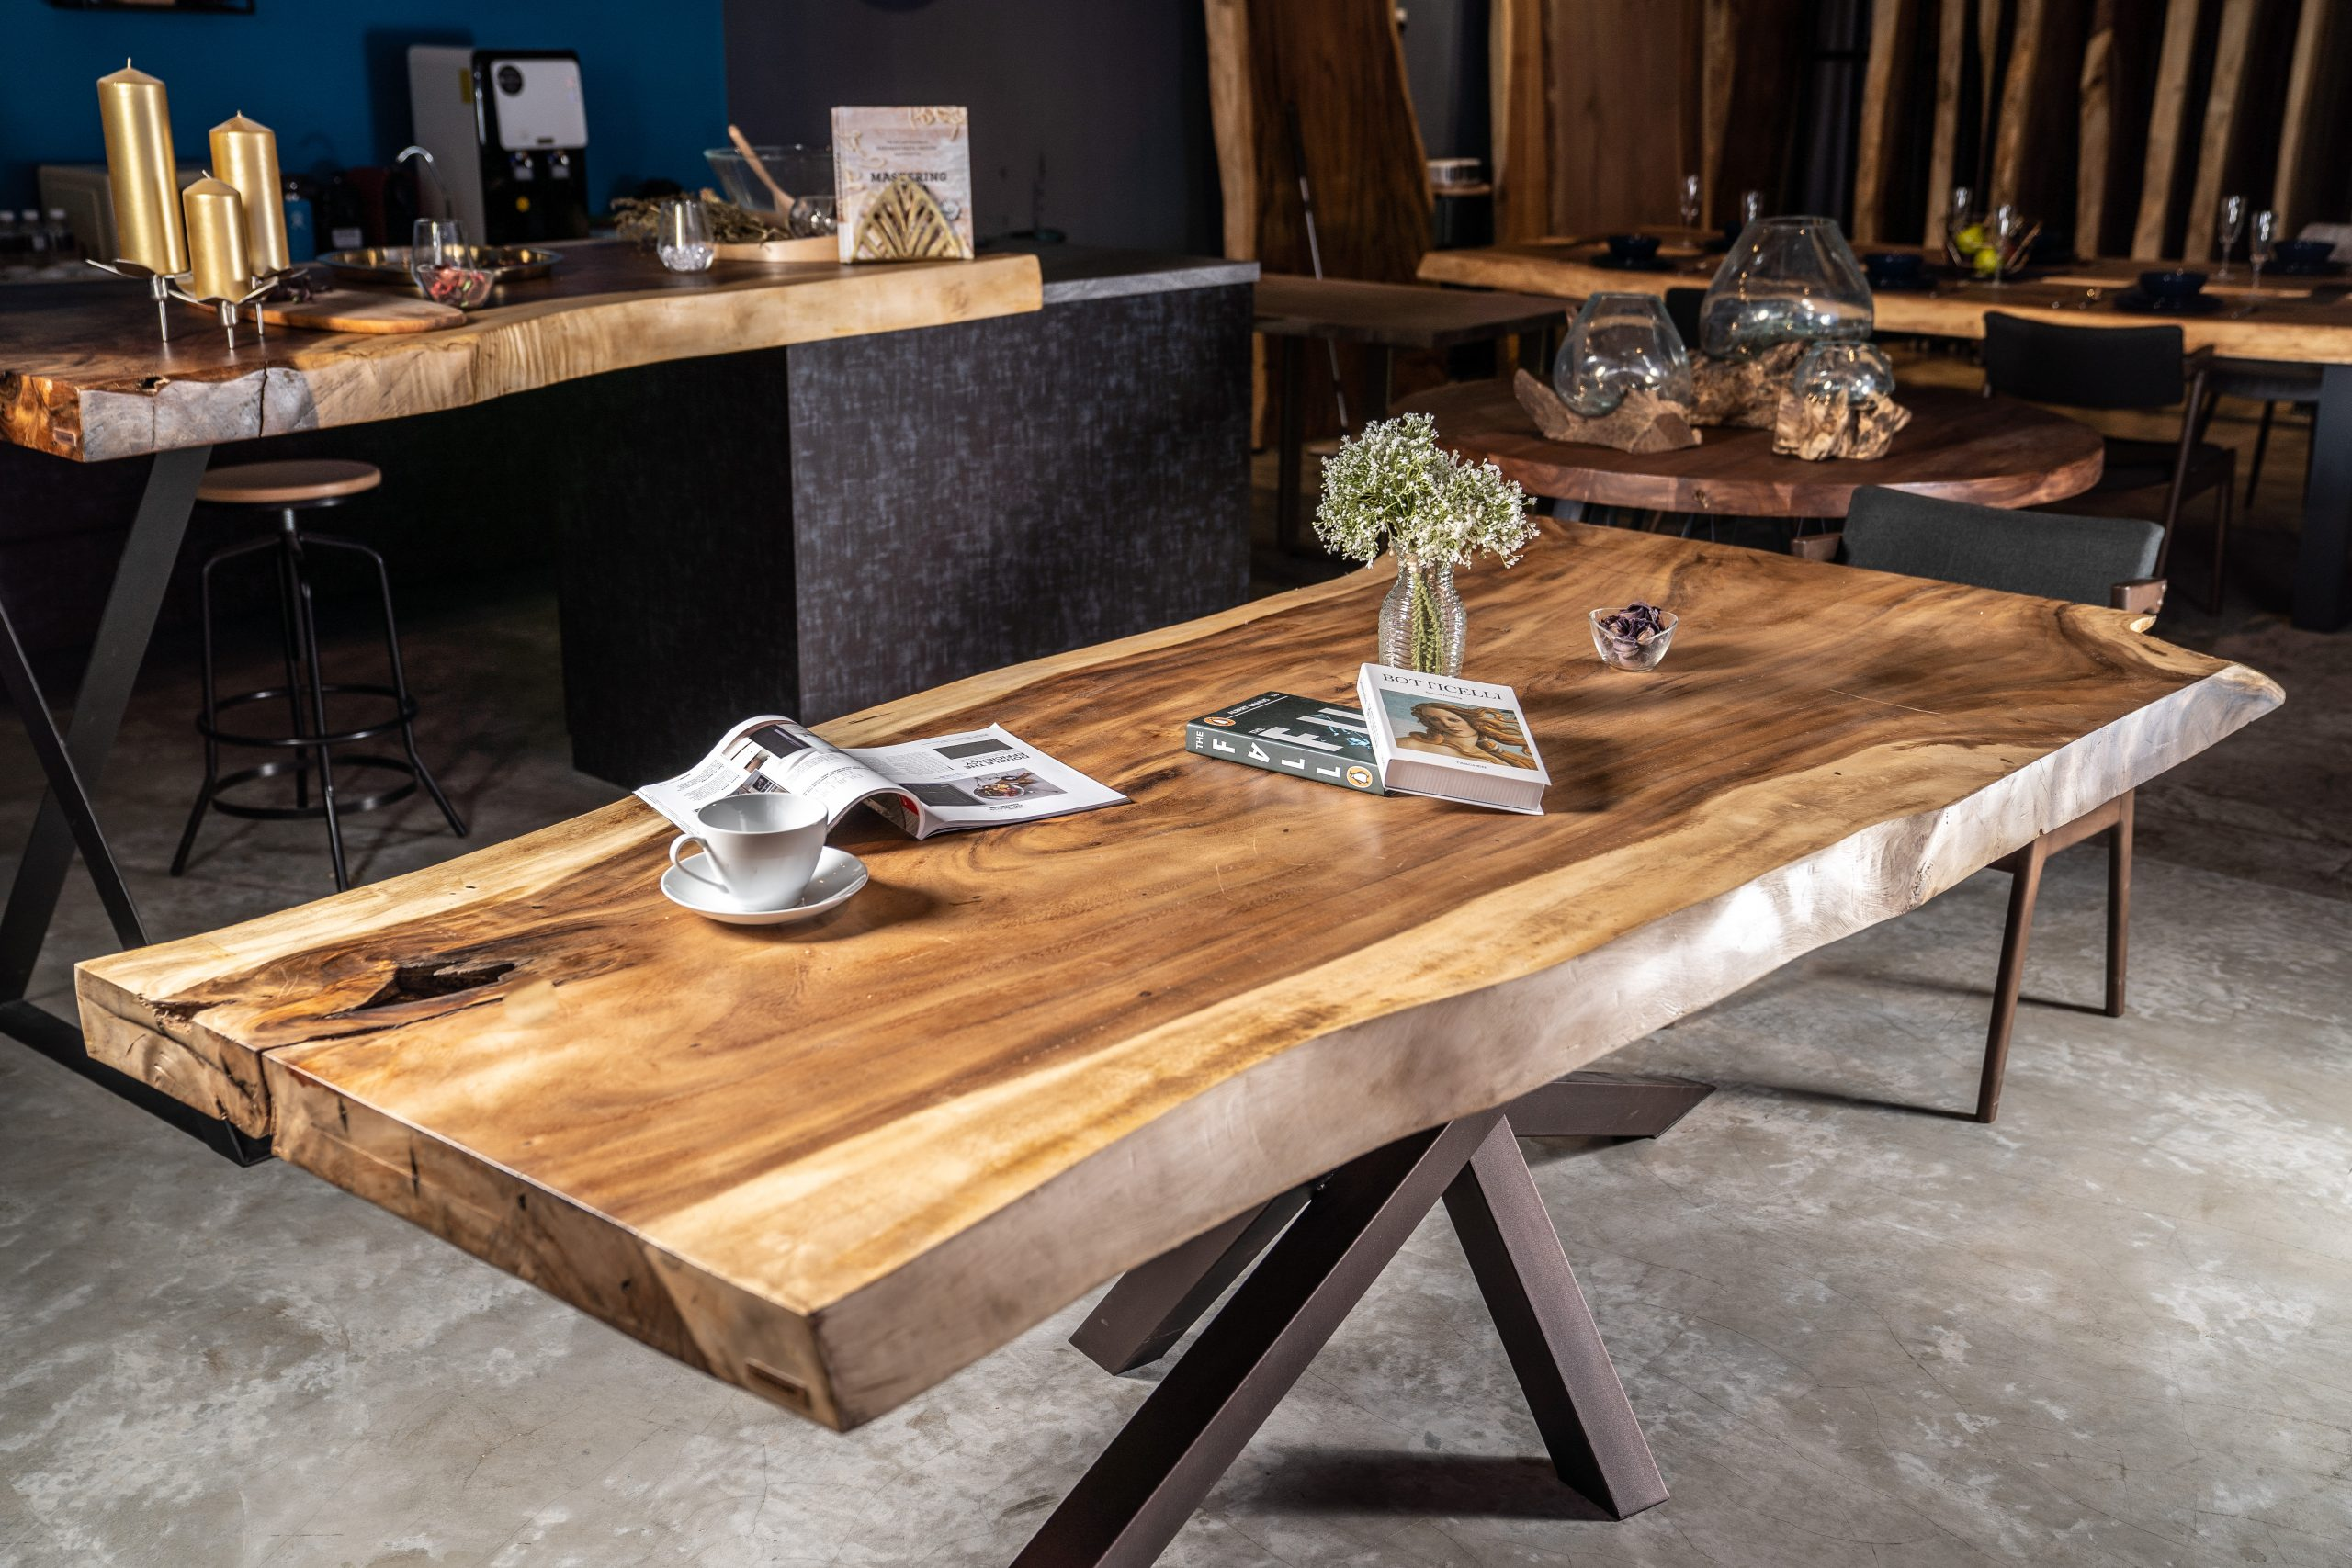table: (98, 486, 2245, 1339), (14, 235, 1069, 486)
